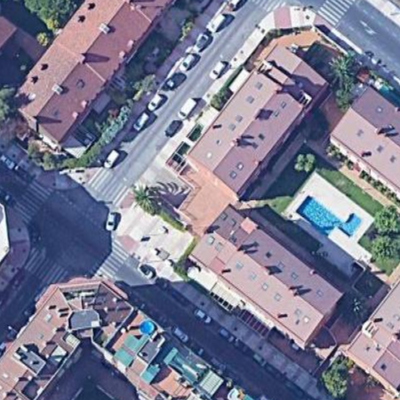tree: (330, 53, 363, 100), (26, 1, 70, 31), (321, 365, 354, 400), (136, 183, 165, 218), (368, 233, 400, 264), (374, 201, 400, 234)
